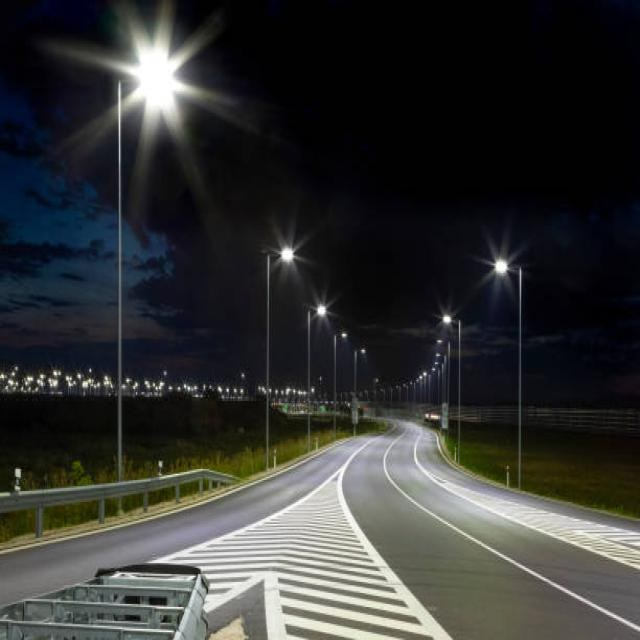acesa: (91, 10, 207, 146), (263, 226, 315, 278), (481, 239, 523, 280), (308, 293, 342, 328), (433, 297, 463, 331)
